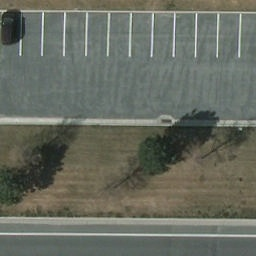car: (1, 12, 20, 46)
